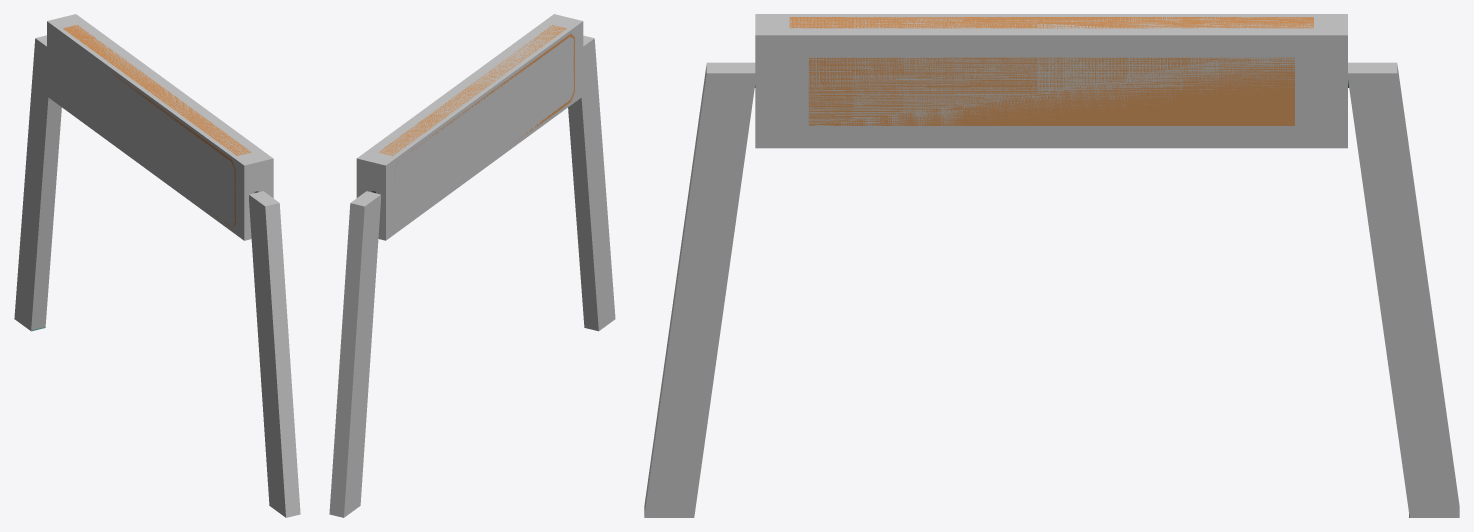
File: SM_Parking_Entrance_Sign.fbx
3 renders of one model, left to right at view 1: azimuth 30°, elevation 25°; view 2: azimuth 150°, elevation 25°; view 3: azimuth 270°, elevation 25°, orthographic. The views are drawn at different scales.
Parts seen in each view (by area): view 1: SM_Parking_Entrance_Sign_ConvexHulls, SM_Parking_Entrance_Sign; view 2: SM_Parking_Entrance_Sign_ConvexHulls, SM_Parking_Entrance_Sign; view 3: SM_Parking_Entrance_Sign_ConvexHulls, SM_Parking_Entrance_Sign.
Boxes of the visible parts, x1,y1,x2,y2 form: SM_Parking_Entrance_Sign_ConvexHulls: (14, 14, 300, 517); SM_Parking_Entrance_Sign: (31, 25, 258, 331); SM_Parking_Entrance_Sign_ConvexHulls: (329, 14, 615, 517); SM_Parking_Entrance_Sign: (372, 25, 574, 193); SM_Parking_Entrance_Sign_ConvexHulls: (644, 14, 1459, 517); SM_Parking_Entrance_Sign: (755, 17, 1409, 517).
Size of the model in its own units: 55 by 888 by 588.
Materials: 2 (1 with a texture image).
